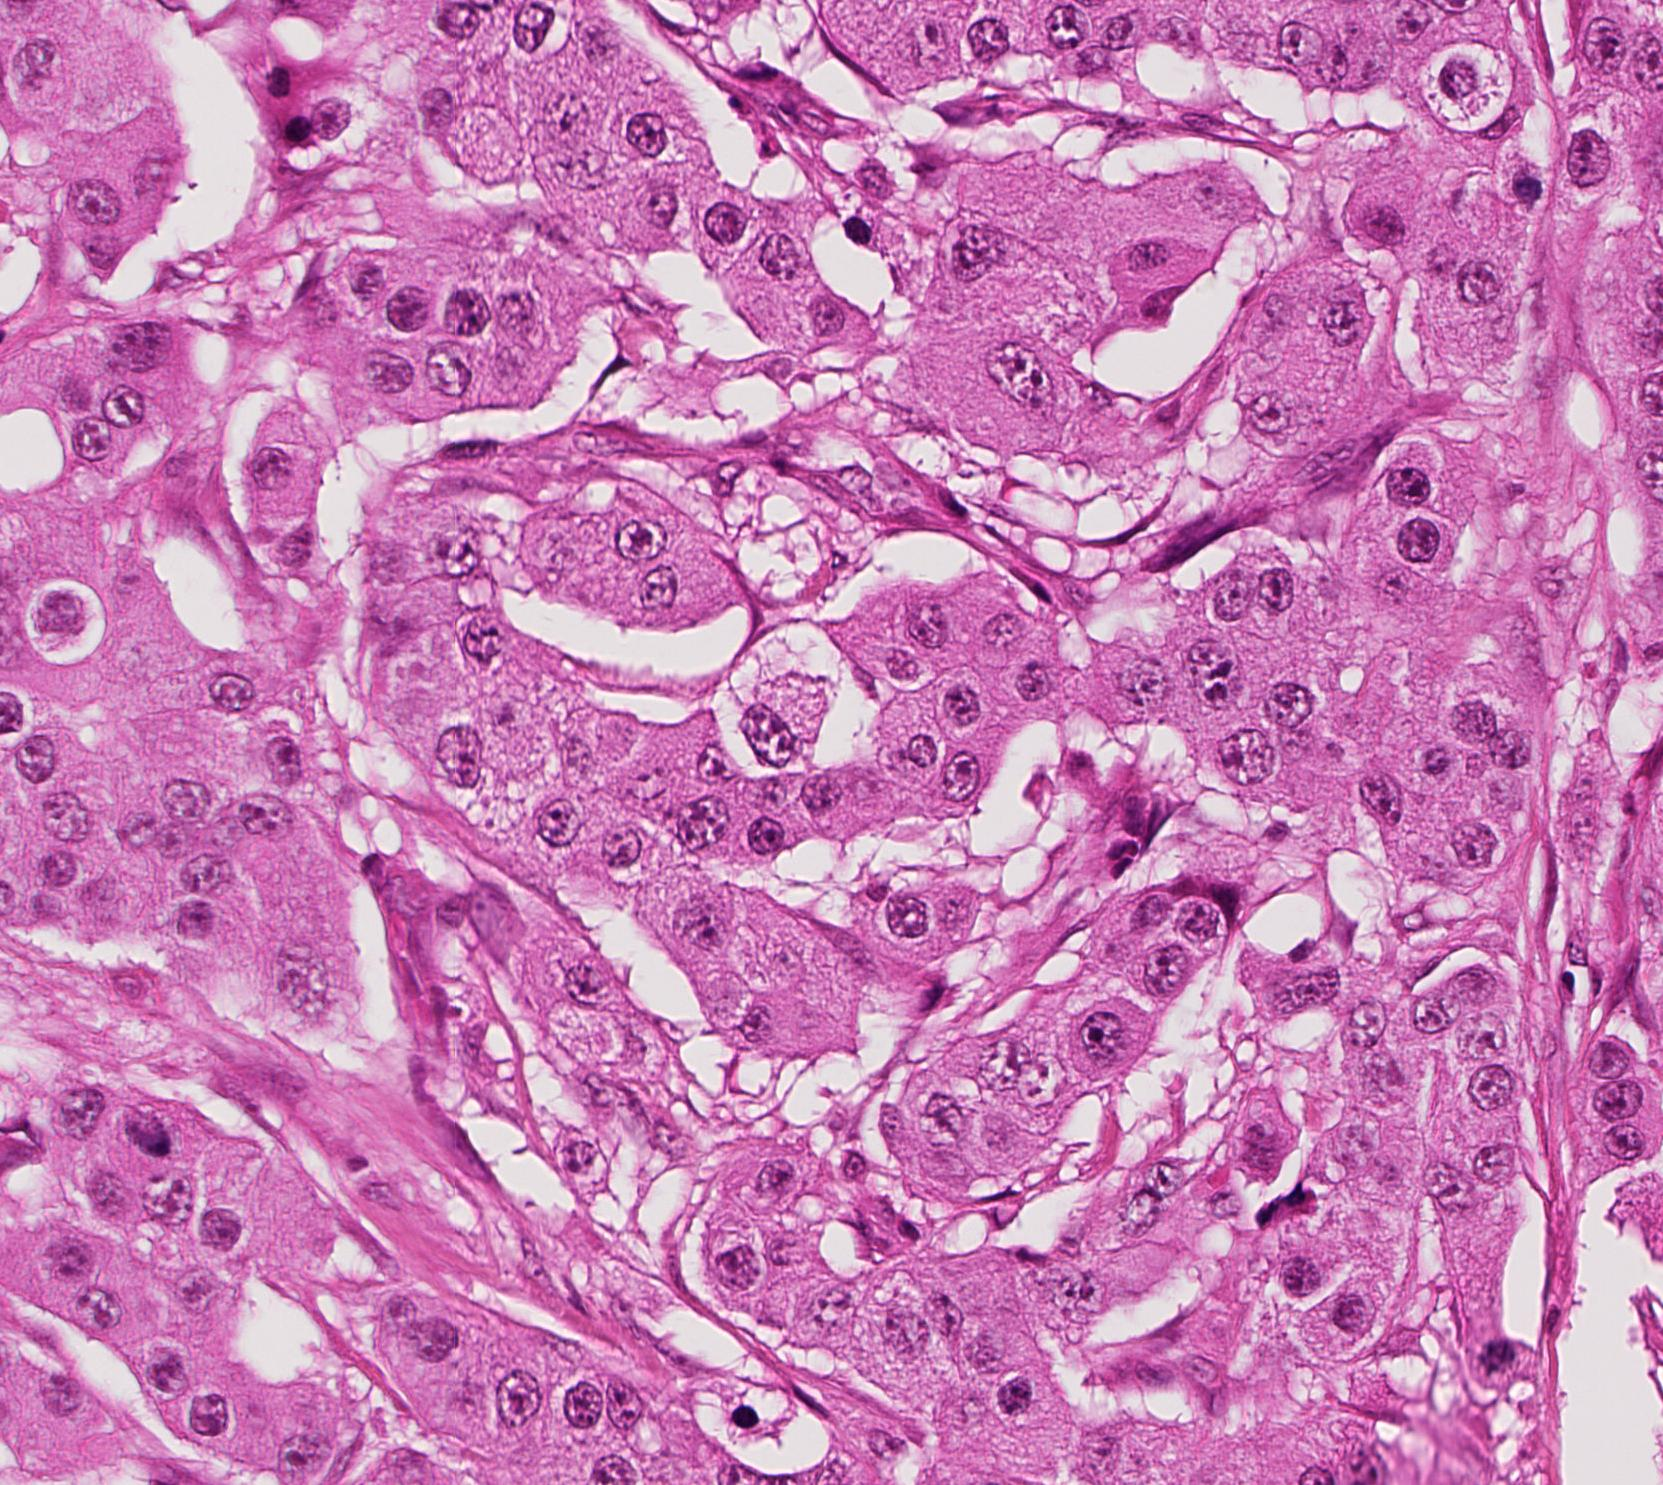mitosis: (1468, 1322, 1528, 1382)
